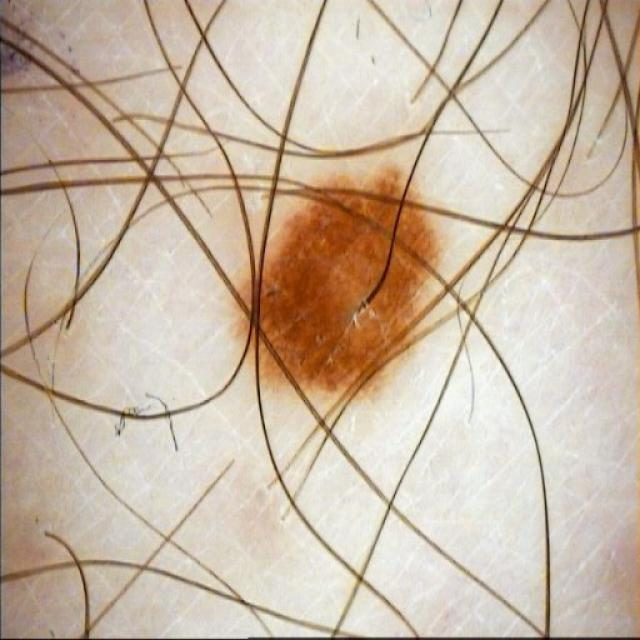Melanoma: (261, 171, 436, 389)
